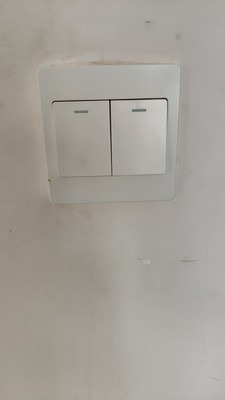switch: (47, 93, 120, 180), (101, 95, 171, 177)
